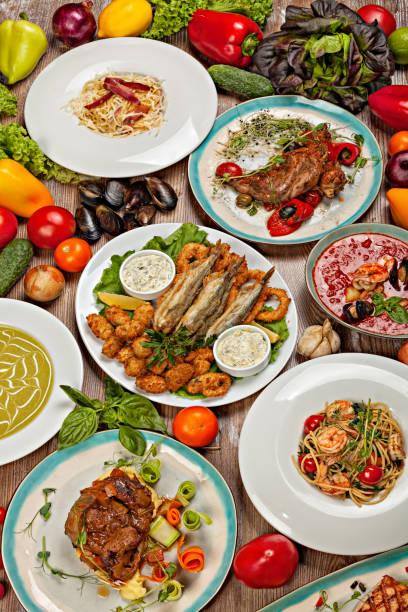Braised Crucian Carp: (0, 429, 233, 610), (74, 224, 296, 406), (238, 355, 406, 554), (186, 95, 381, 245), (23, 36, 218, 178), (303, 224, 404, 342)
